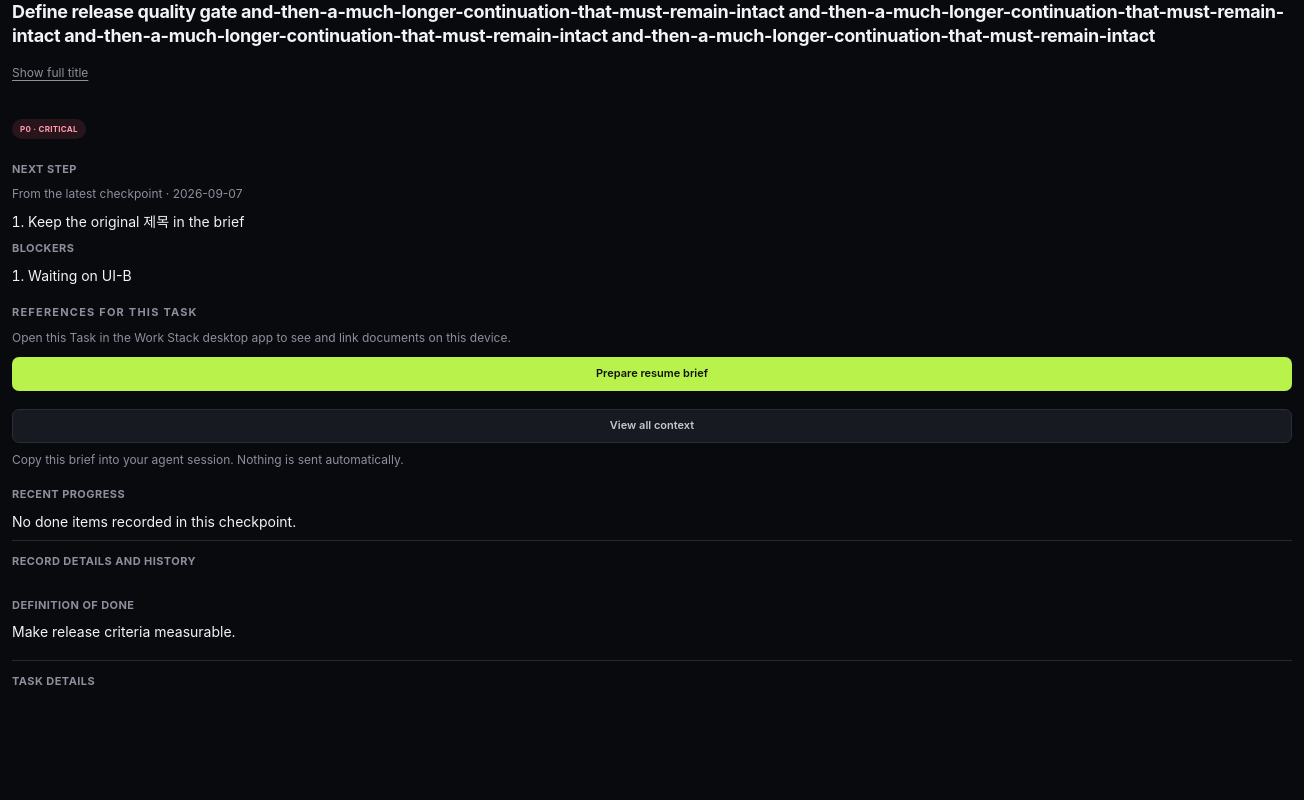
Test: resume renders the latest next and blockers before task details and expands long titles in place
Expected: the list item "Keep the original 제목 in the brief" is shown, x1=28 y1=213 x2=244 y2=230
Expected: the list item "Waiting on UI-B" is shown, x1=28 y1=267 x2=132 y2=284
Click the button "Show full title".
click(50, 73)  # box x1=12 y1=57 x2=88 y2=89
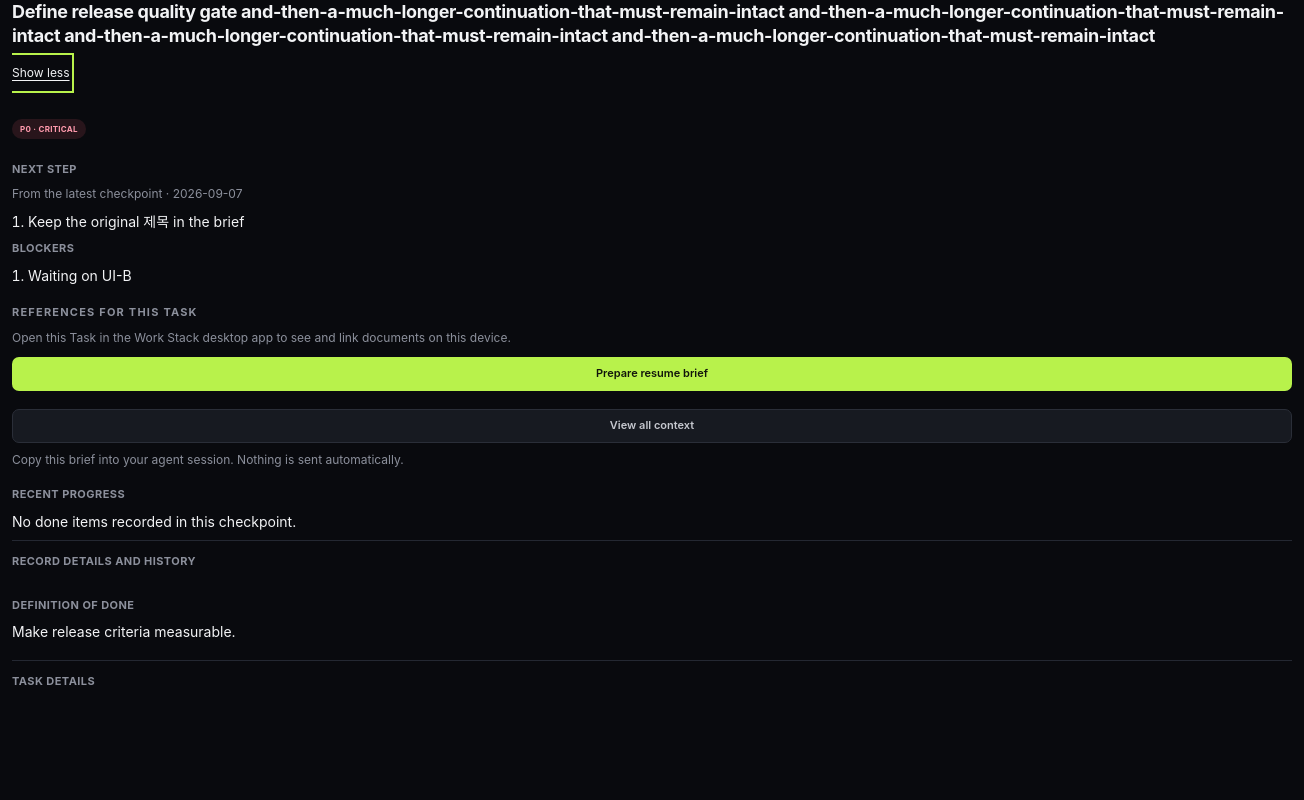
Expected: the button "Show less" is expanded, x1=12 y1=57 x2=70 y2=89
Click the heading "Task details".
click(54, 681)  # box x1=12 y1=674 x2=95 y2=688
(page scrolled)
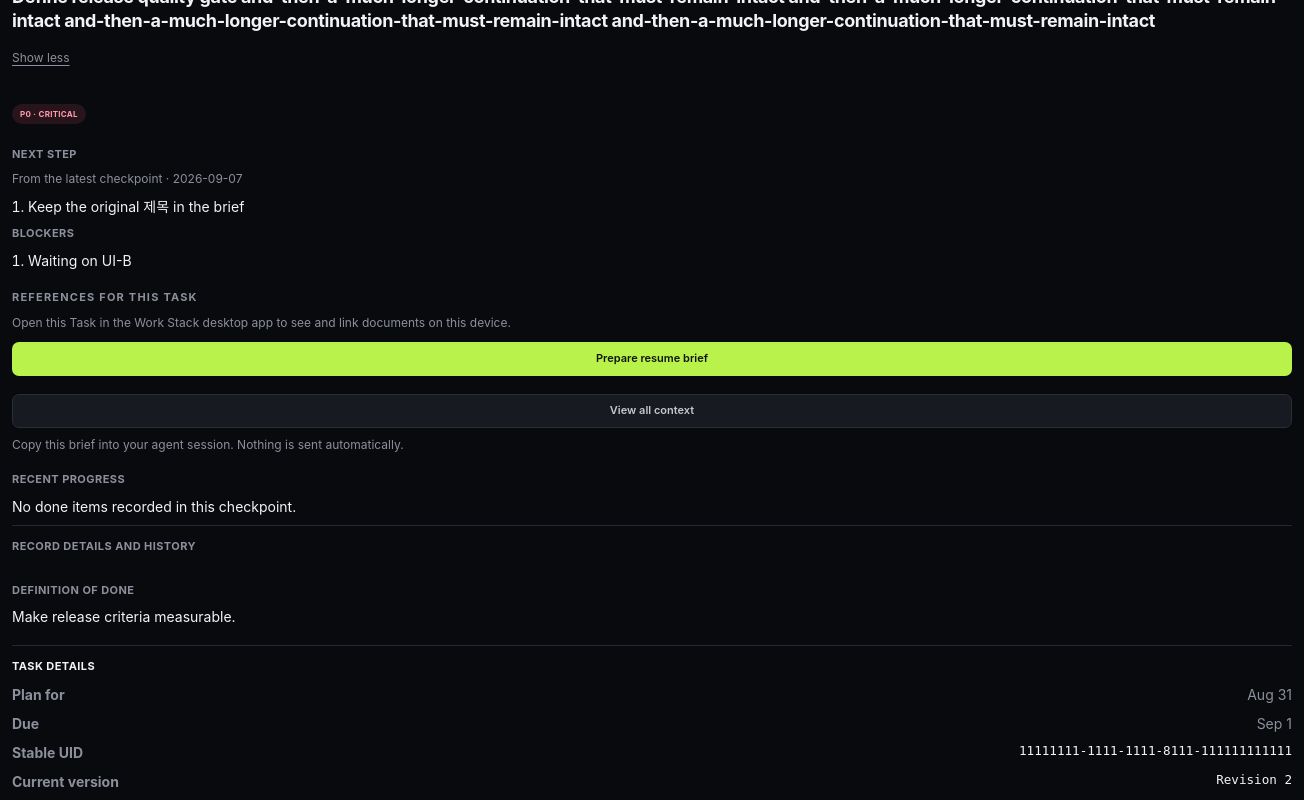
Expected: the text "11111111-1111-1111-8111-111111111111" is shown, x1=1019 y1=742 x2=1292 y2=763
